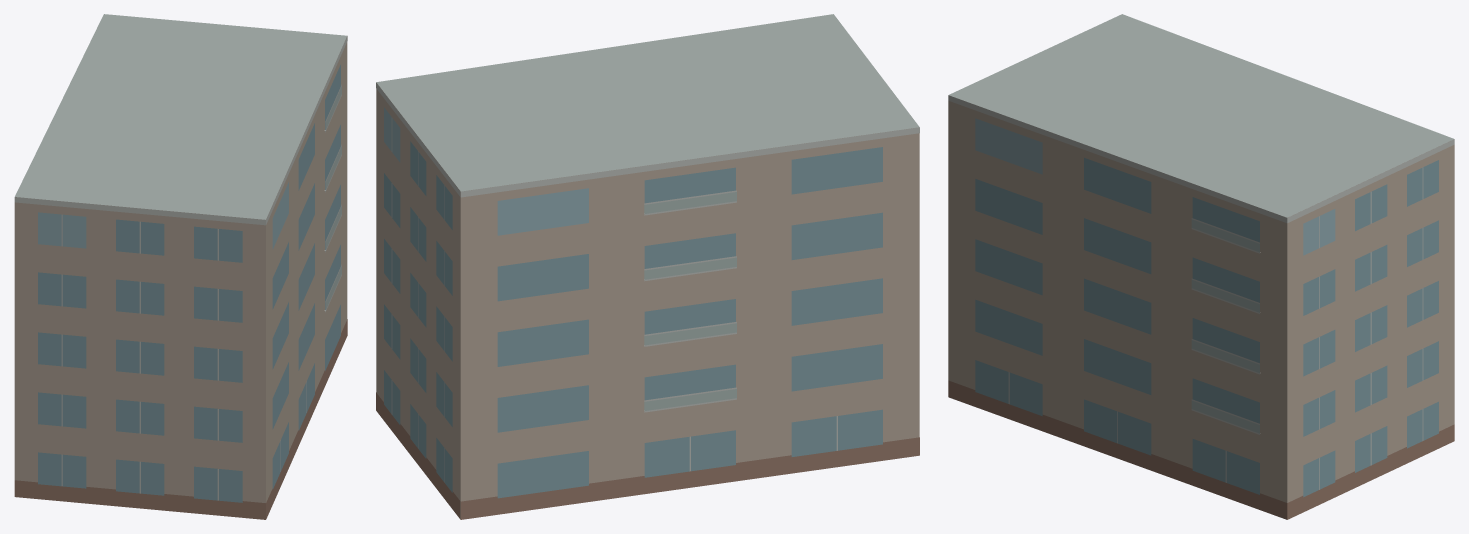
The model's file is survey-upis-32720872.glb.
3 renders of one model, left to right at view 1: azimuth 30°, elevation 25°; view 2: azimuth 150°, elevation 25°; view 3: azimuth 270°, elevation 25°, orthographic. The views are drawn at different scales.
Parts seen in each view (by area): view 1: survey-upis-32720872.tmp; view 2: survey-upis-32720872.tmp; view 3: survey-upis-32720872.tmp.
Boxes of the visible parts, bbox=[...] form: survey-upis-32720872.tmp: bbox=[14, 14, 347, 519]; survey-upis-32720872.tmp: bbox=[376, 14, 919, 519]; survey-upis-32720872.tmp: bbox=[948, 14, 1454, 519].
Bounding box in the file's own units: 19.32 × 13.35 × 20.29.
